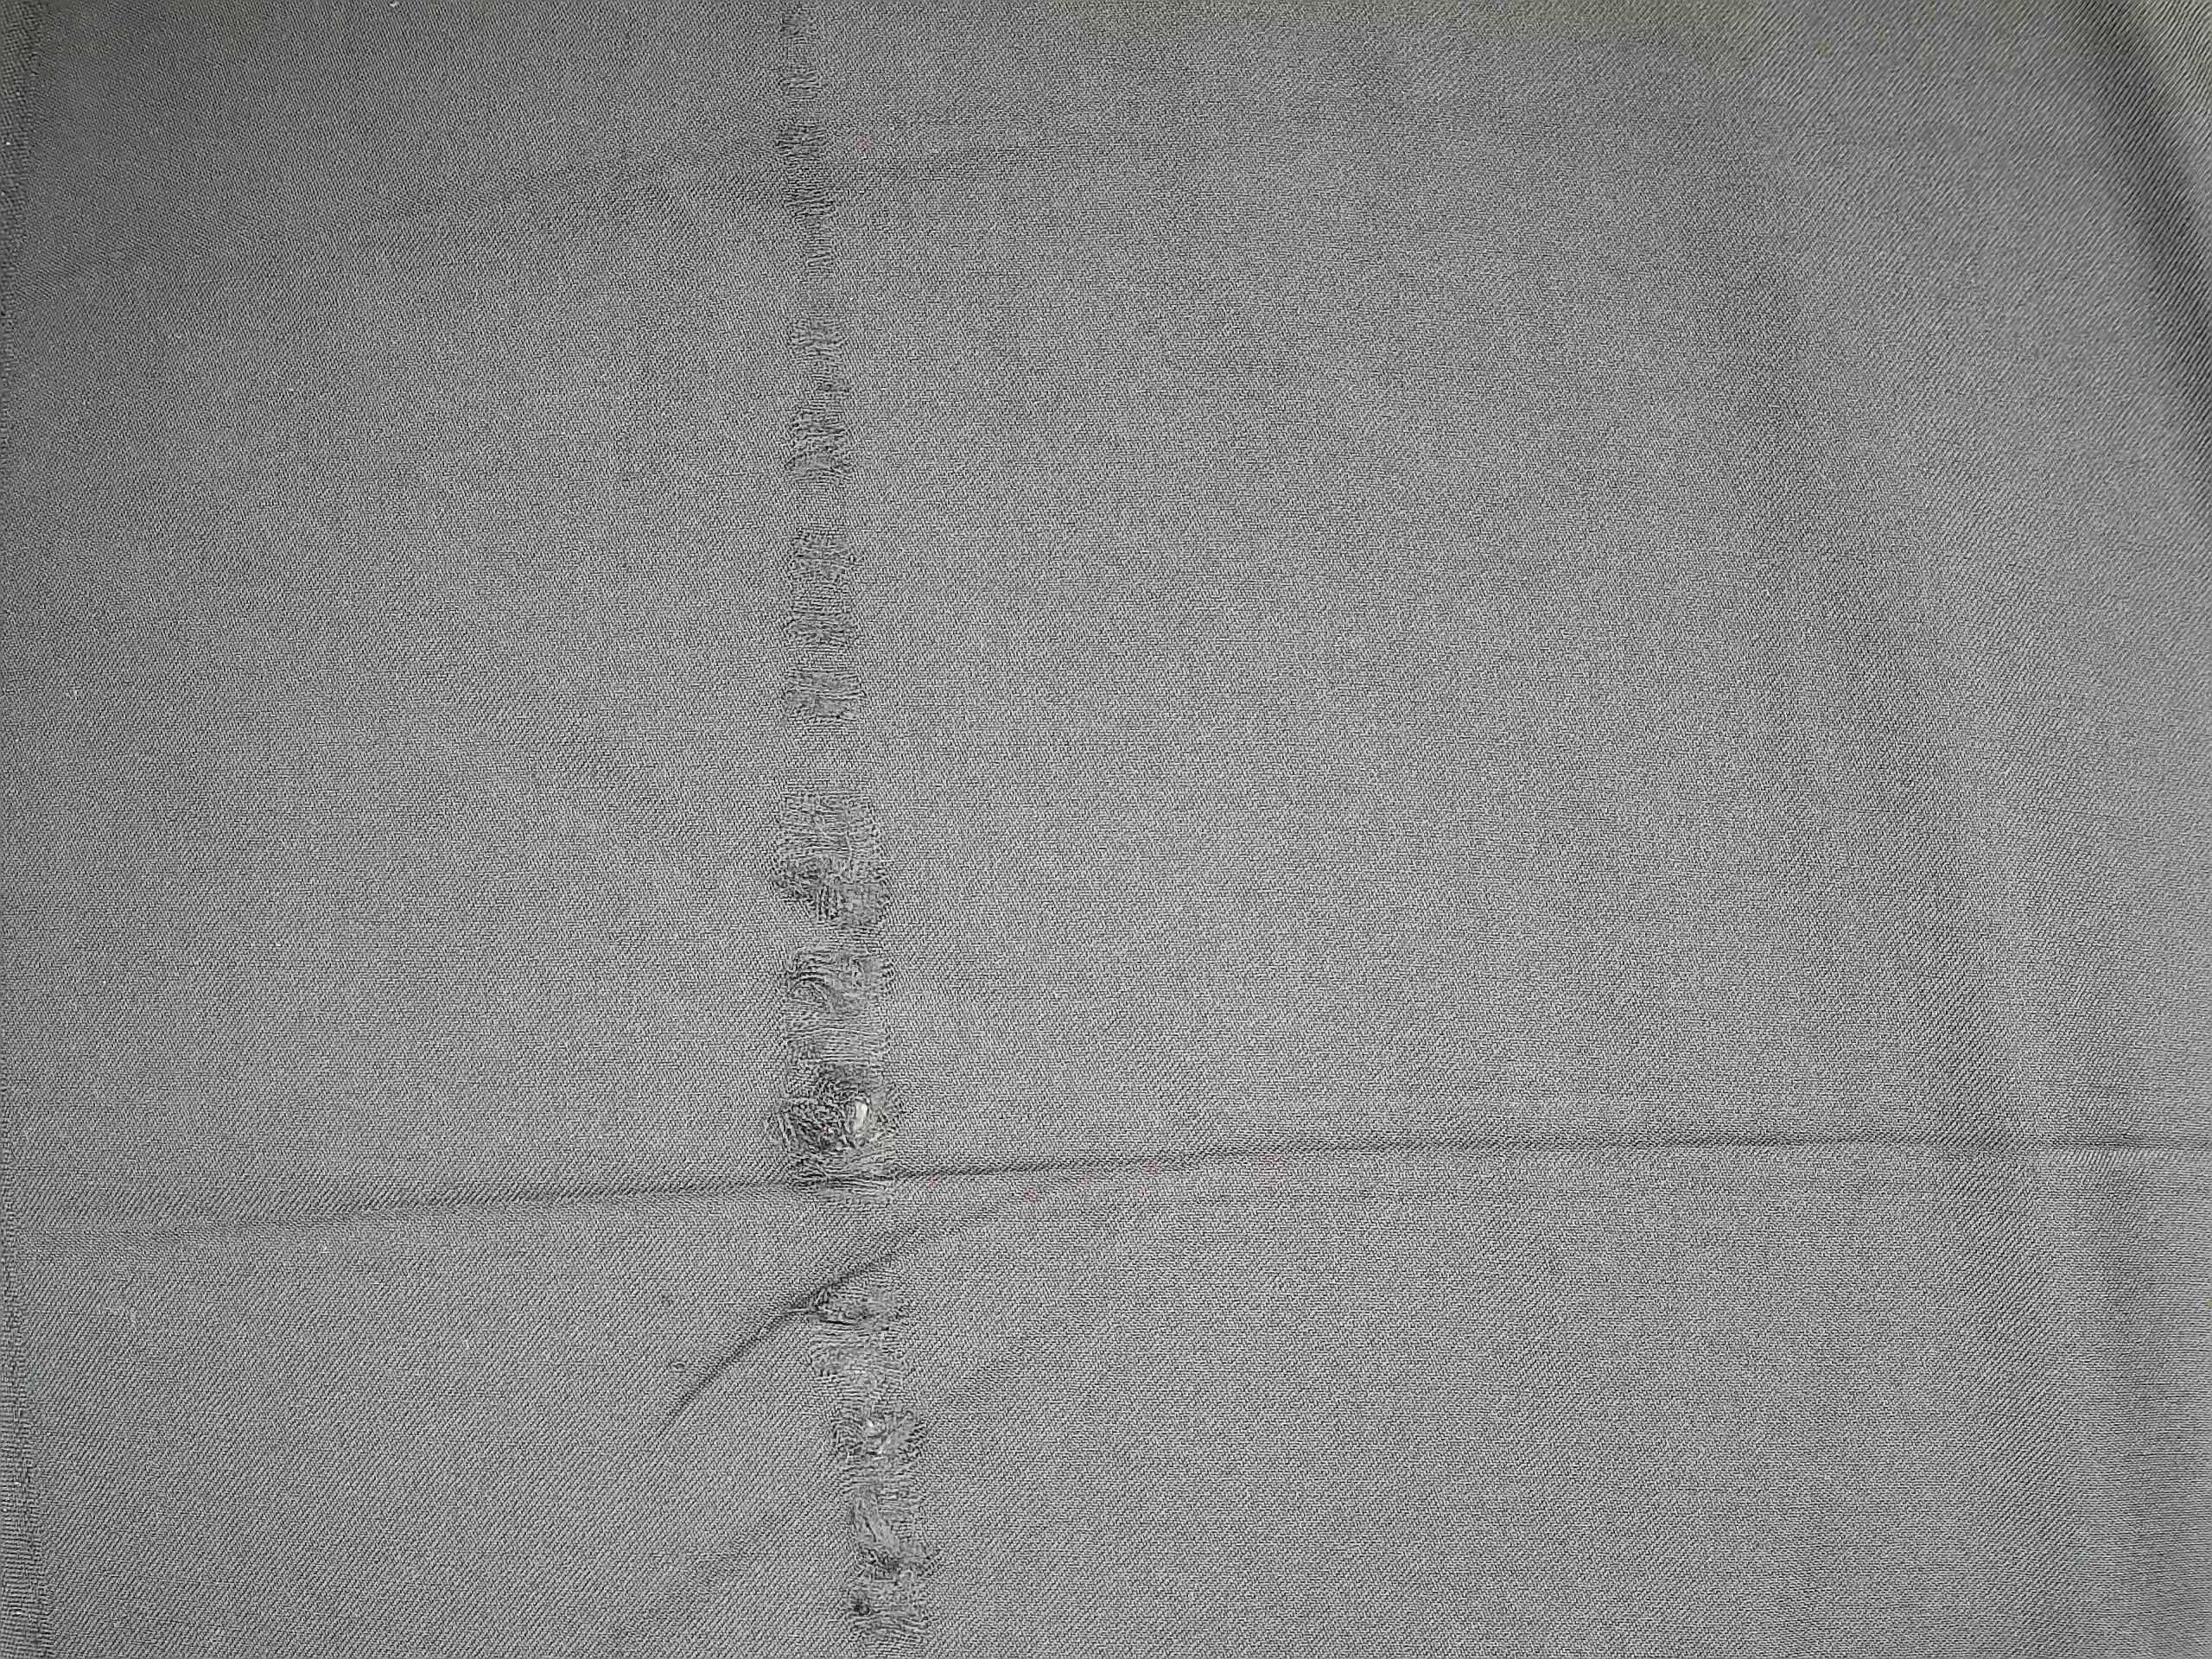puncture-hole: (745, 0, 934, 1645)
